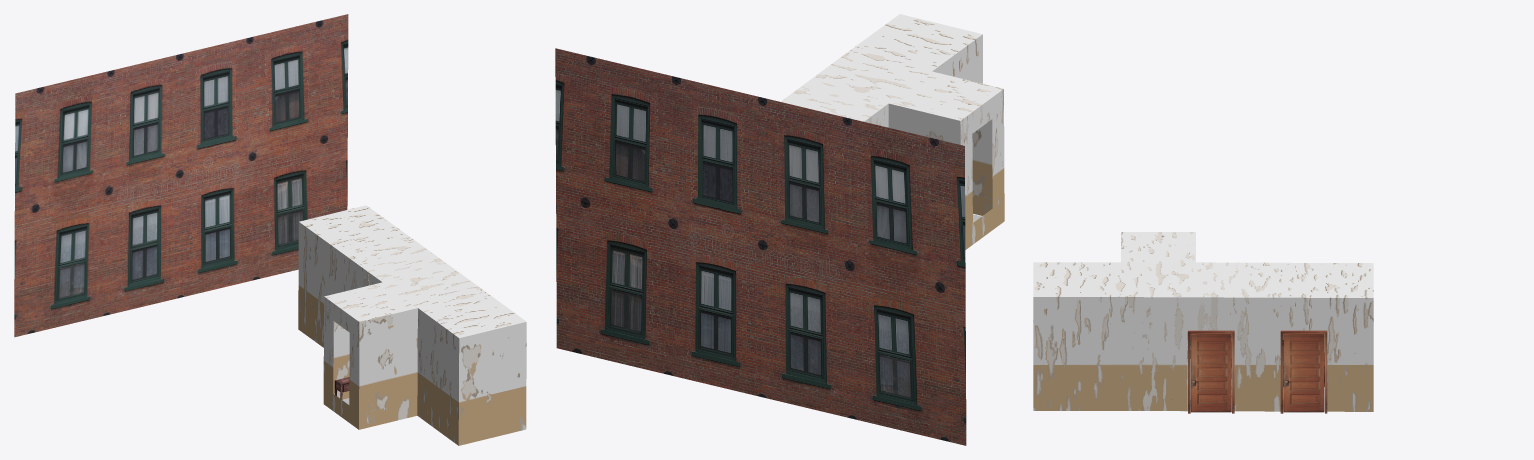
Rendered from AlienModelTry.gltf.
The picture shows the model from 3 angles, left to right: view 1: azimuth 30°, elevation 25°; view 2: azimuth 150°, elevation 25°; view 3: azimuth 270°, elevation 25°; orthographic projection. The views are drawn at different scales.
Parts seen in each view (by area): view 1: font_Plane, wall_Cube.001; view 2: font_Plane, wall_Cube.001; view 3: wall_Cube.001, door2_InteriorDoor.002, door1_InteriorDoor.004.
Boxes of the visible parts, <box> form: font_Plane: <box>14,14,348,337</box>; wall_Cube.001: <box>298,205,526,445</box>; font_Plane: <box>555,48,966,445</box>; wall_Cube.001: <box>781,14,1004,249</box>; wall_Cube.001: <box>1033,232,1373,411</box>; door2_InteriorDoor.002: <box>1280,330,1327,413</box>; door1_InteriorDoor.004: <box>1188,330,1234,413</box>.
Size of the model in its own units: 24.58 by 17.25 by 29.2.
